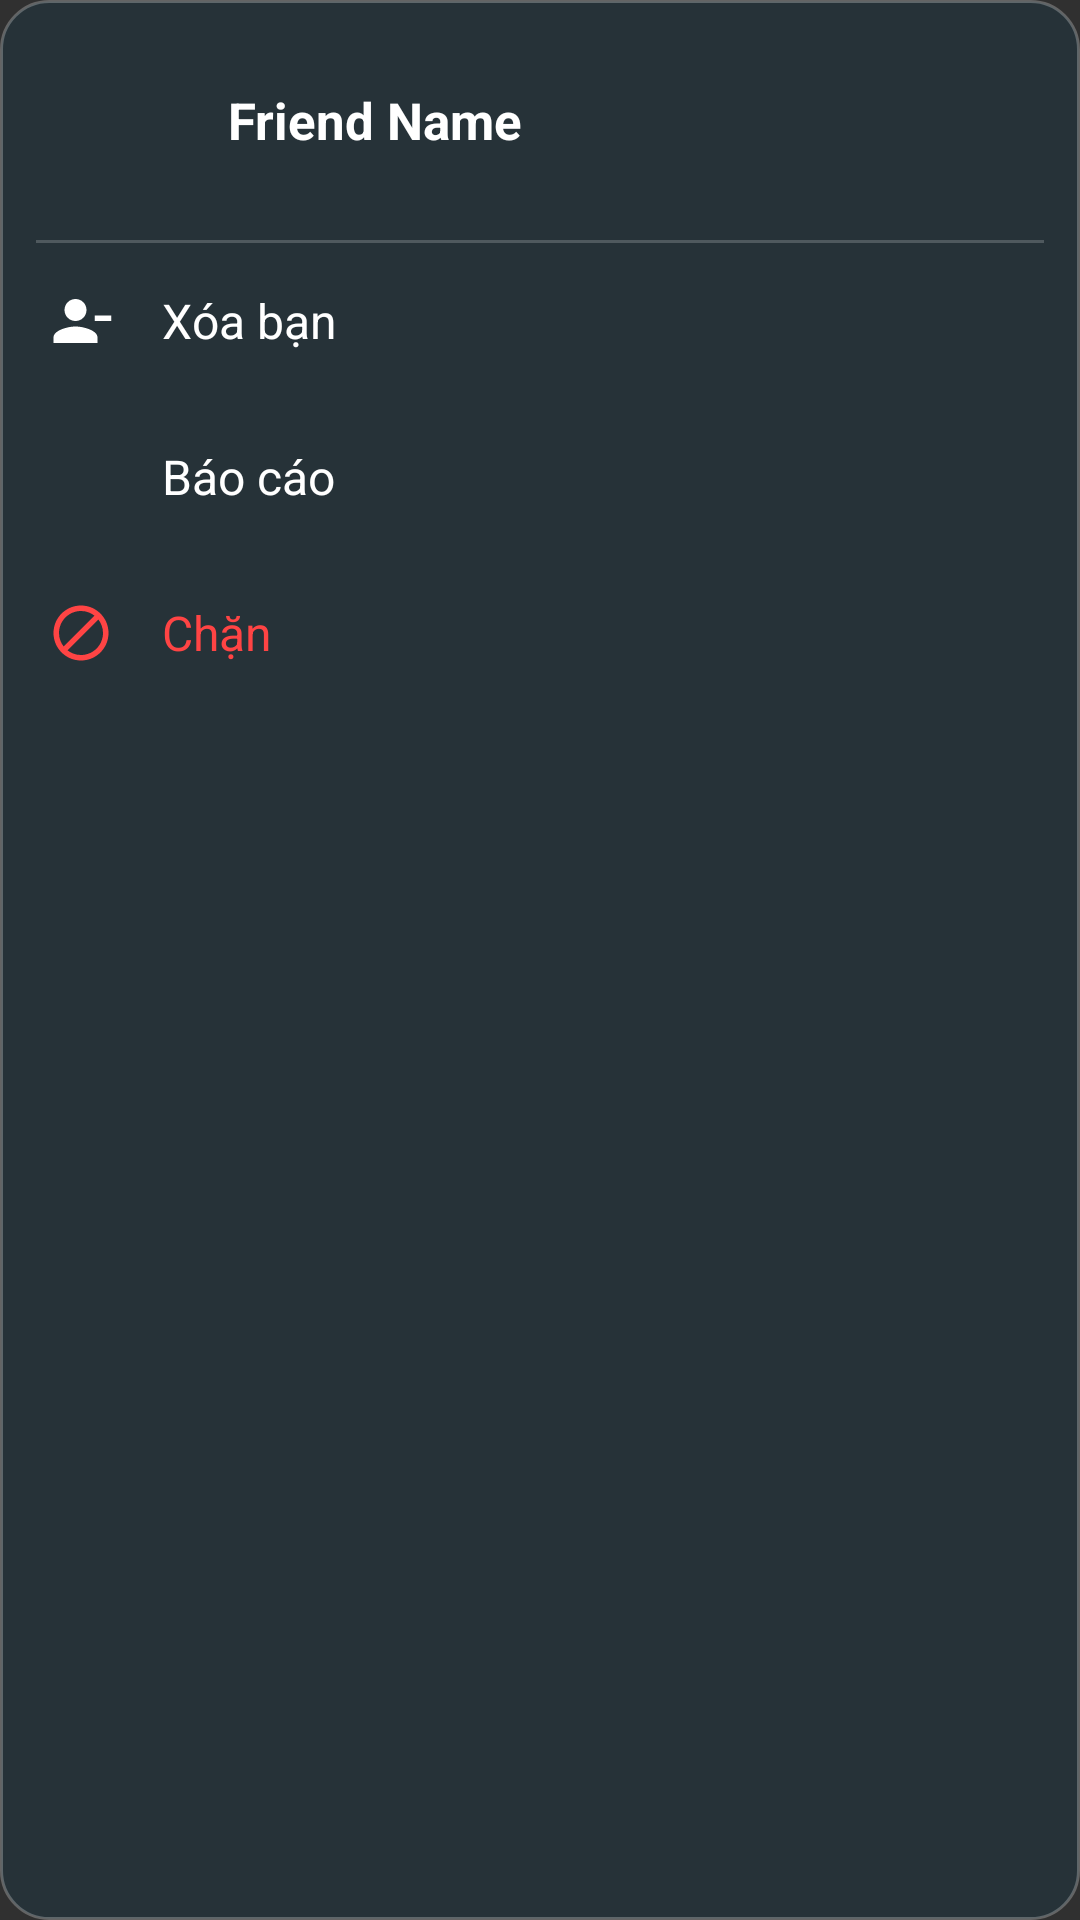

Locate icon controls on the screen. Image size 1080x1920, boxes as {"left": x1, "top": y1, "right": x2, "bottom": y2}.
Block: {"left": 53, "top": 605, "right": 109, "bottom": 661}
Unfriend: {"left": 53, "top": 299, "right": 112, "bottom": 343}
